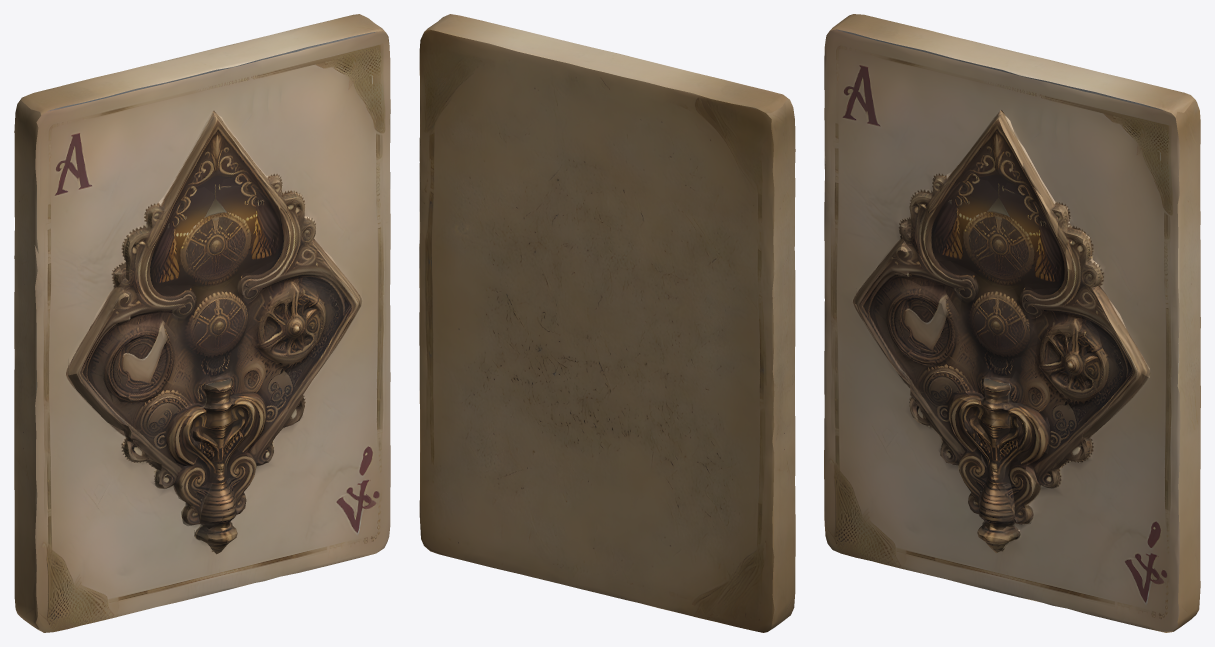
File: Diamond.fbx
The picture shows the model from 3 angles, left to right: view 1: azimuth 30°, elevation 25°; view 2: azimuth 150°, elevation 25°; view 3: azimuth 330°, elevation 25°; orthographic projection.
Visible parts, largest first — view 1: input; view 2: input; view 3: input.
Boxes of the visible parts, x1,y1,x2,y2 form: input: (14,14,390,632); input: (419,14,795,632); input: (824,14,1200,632).
Bounding box in the file's own units: 70.97 × 99.99 × 12.7.
1 material, 1 textured.
